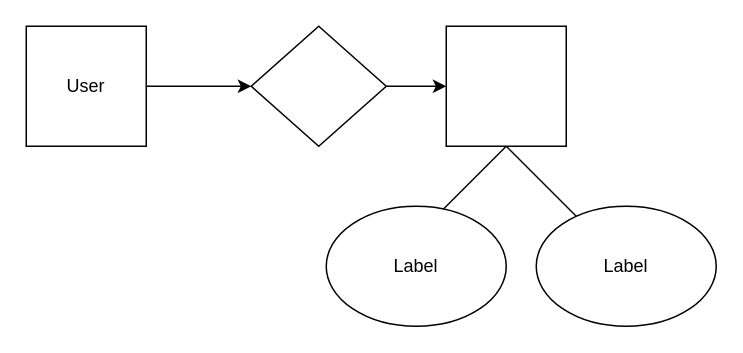
The diagram is 743 pixels wide and 353 high, and some of its shapes have lost their labels. The centre of each missing label's shape, as x and y in pixels:
"Registers for" goes at point (318, 85).
"Task" goes at point (505, 85).
